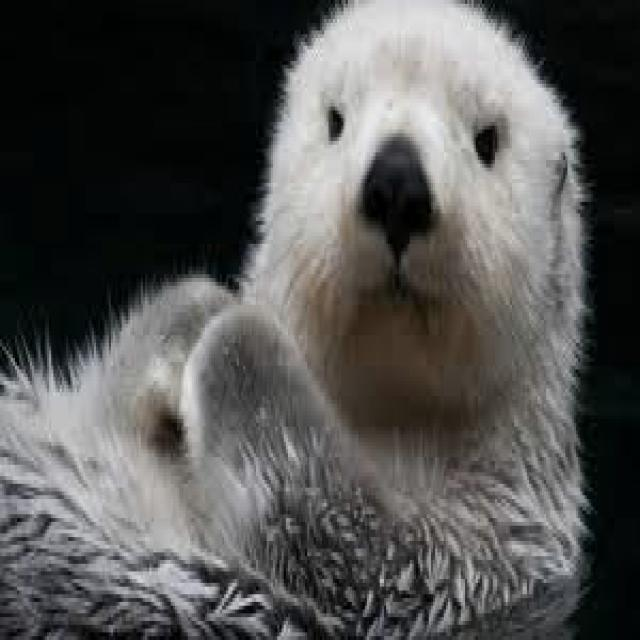otter: (0, 0, 585, 636)
